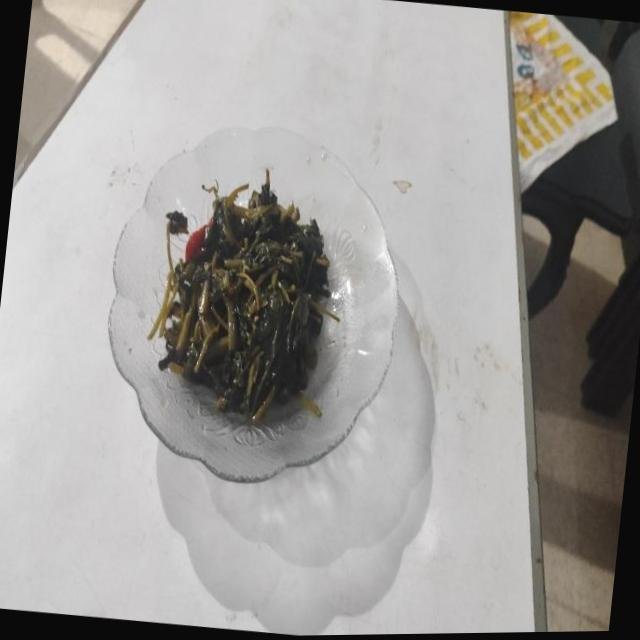tumis_kangkung: (158, 168, 339, 423)
